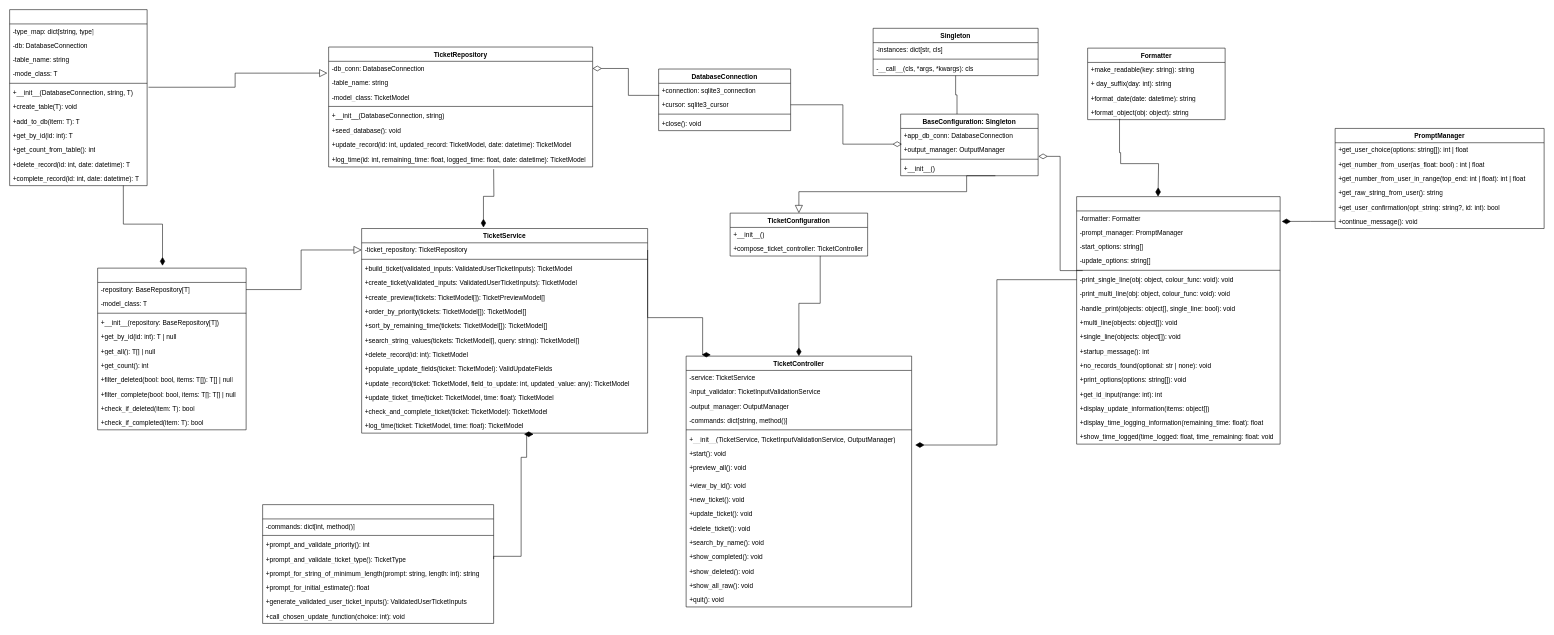
The diagram is 1554 pixels wide and 635 high, and some of its shapes have lost their labels. Here are the shapes that lost their labels. From the top down, the box of each, then its label:
(9, 9, 147, 186): BaseRepository<T: BaseModel>
(1076, 196, 1280, 444): OutputManager
(97, 268, 246, 430): BaseService<T: BaseModel>
(262, 504, 494, 623): TicketInputValidationService
